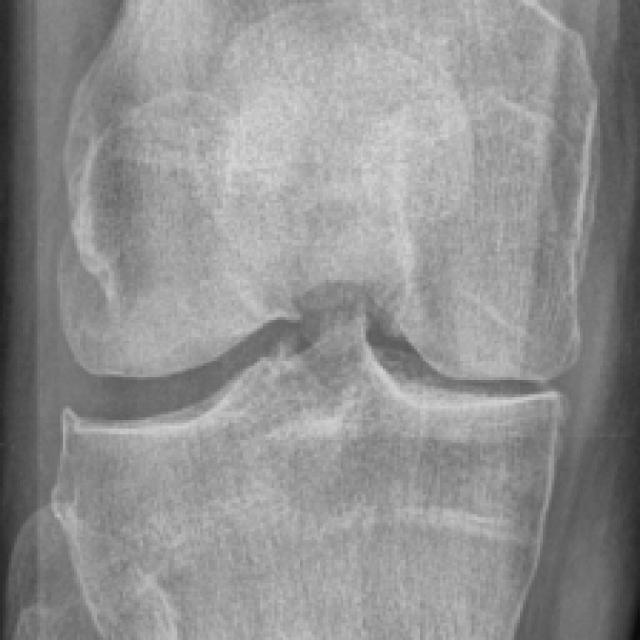femur: (58, 0, 603, 380)
tibia: (54, 311, 560, 639)
